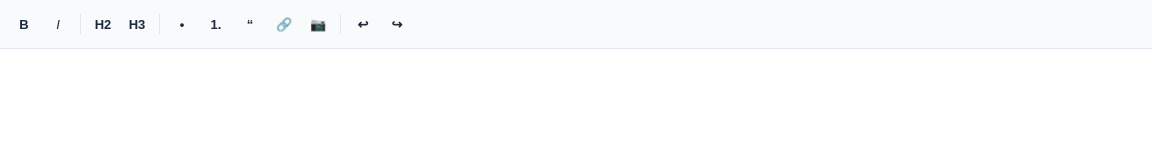
Test: EditorToolbar — image › texte alternatif vide : l’image n’est pas posée, et l’écran dit pourquoi
Click the button with test id "toolbar-image" at (318, 24), box [302,8,334,40]
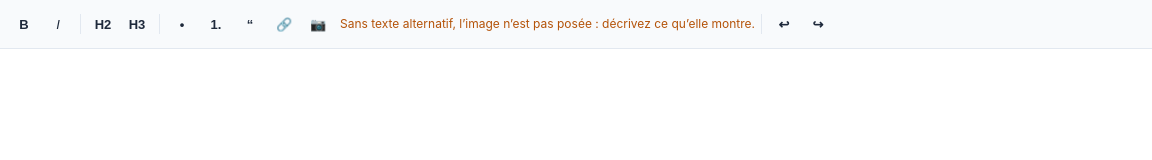
Result: the message with test id "toolbar-image-notice" shows "texte alternatif" at [340,16,755,31]
